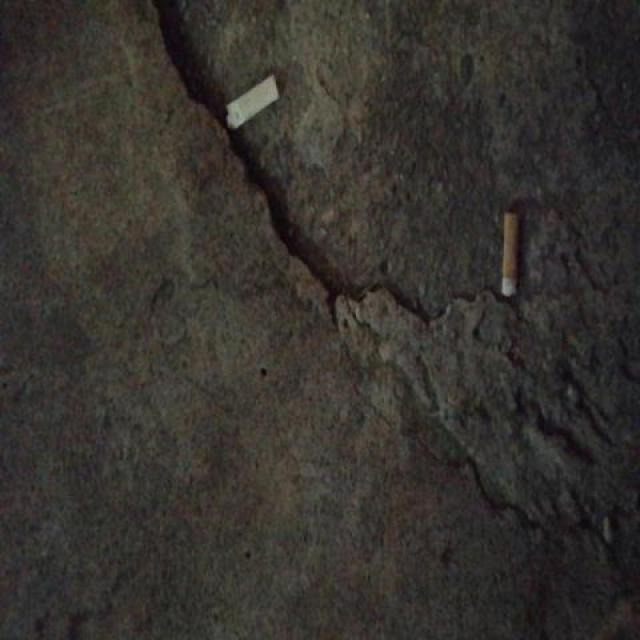non-organic waste: (221, 66, 284, 134), (497, 204, 524, 300)
